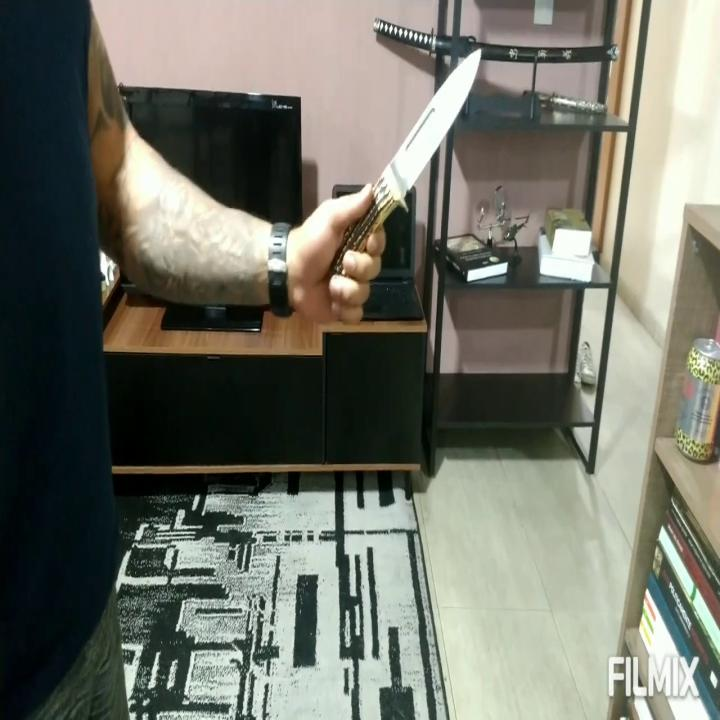knife: (320, 38, 485, 290)
